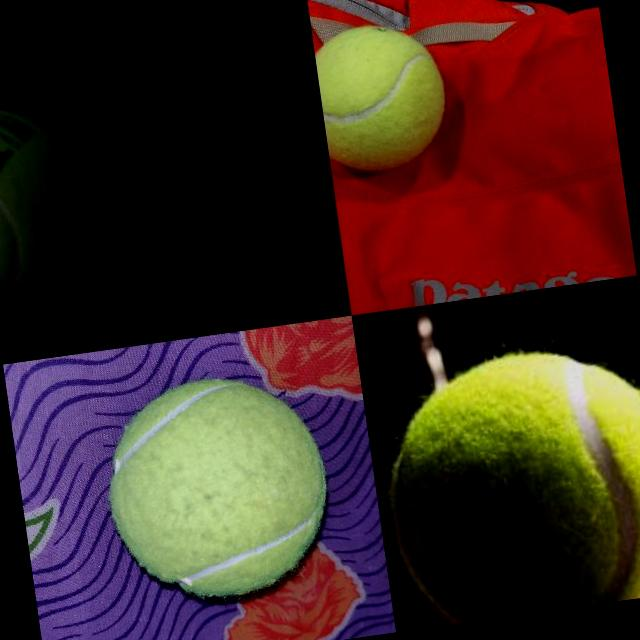Tennis Ball: (367, 332, 640, 630), (92, 364, 341, 610), (312, 15, 456, 180), (0, 94, 95, 294)
